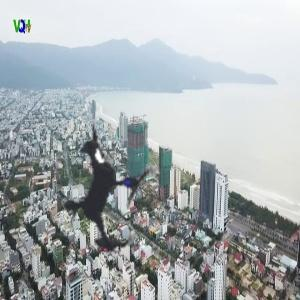drone: (10, 93, 210, 293)
